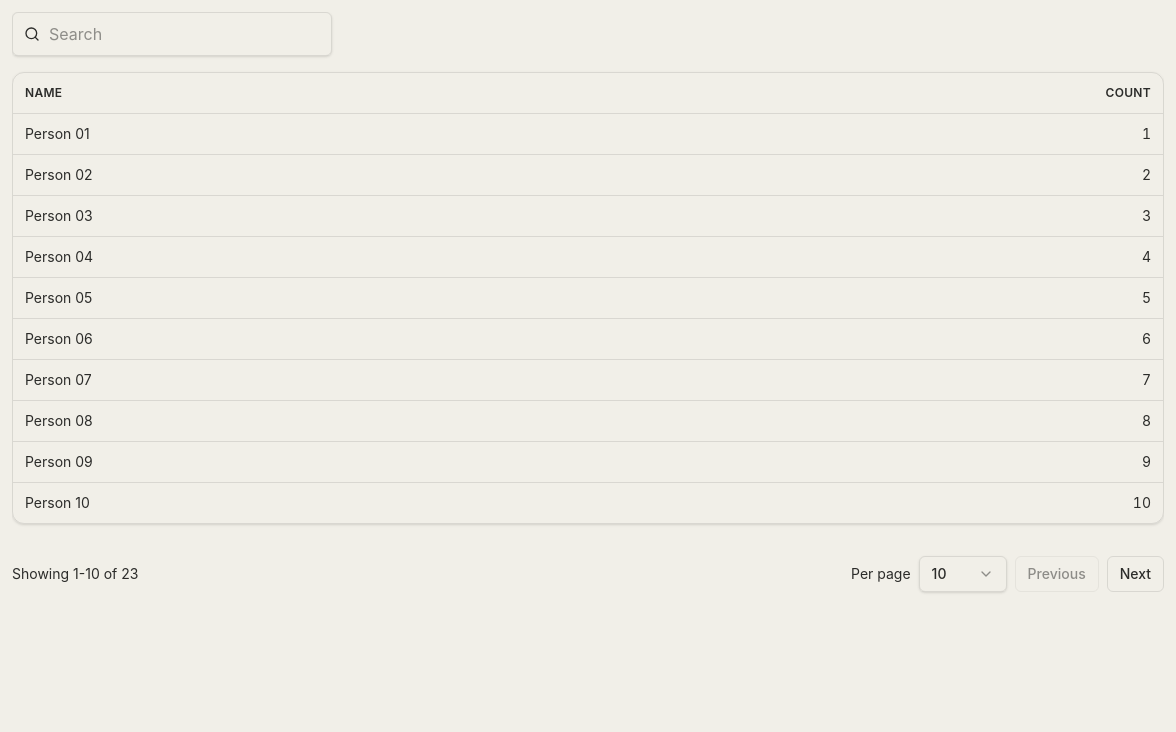
it: DataTable filtering › filters rows by the column searchValue
Check: the text "Person 01" is shown, box x1=13 y1=113 x2=669 y2=154
Check: the text "Showing 1-10 of 23" is shown, box x1=12 y1=564 x2=138 y2=584
Type "Person 21" into the search field.
click(172, 34); type("Person 21")  # box x1=12 y1=12 x2=332 y2=56
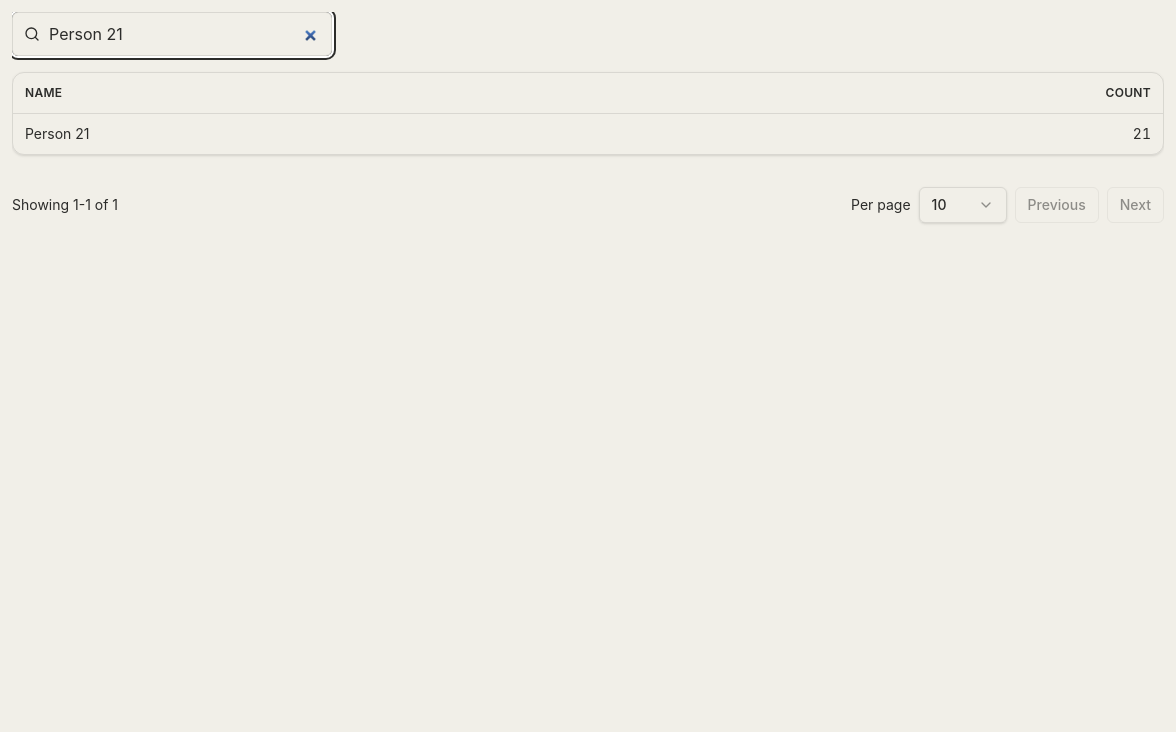
Check: the text "Person 21" is shown, box x1=13 y1=113 x2=658 y2=154
Check: the text "Person 01" is gone
Check: the text "Showing 1-1 of 1" is shown, box x1=12 y1=194 x2=118 y2=214
